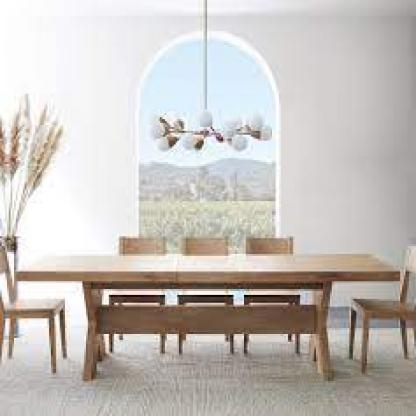Dining Table: (0, 222, 416, 384)
